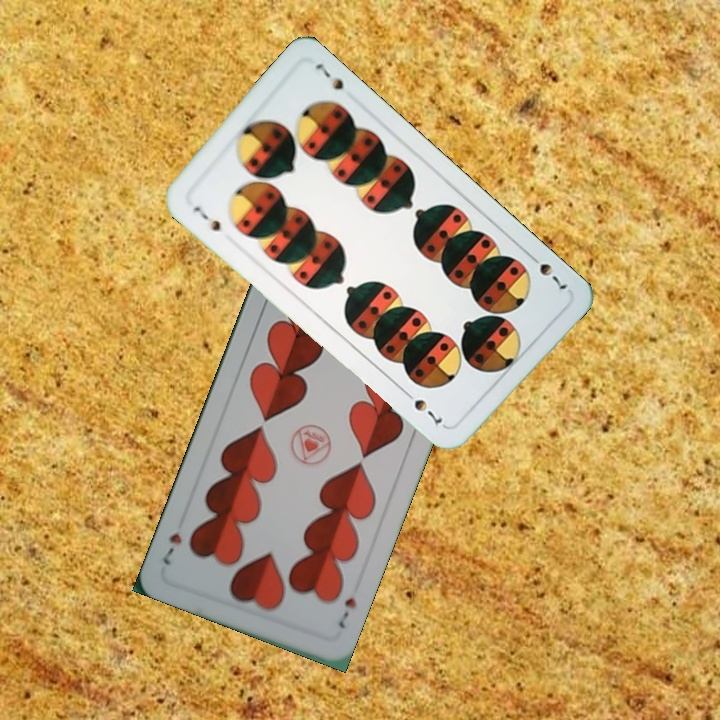H7: (333, 593, 359, 632)
S7: (524, 249, 571, 293), (189, 202, 224, 234)
